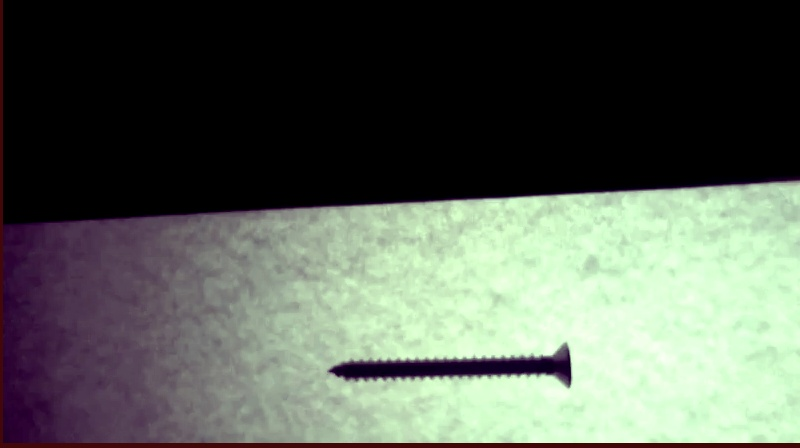S002: (323, 338, 575, 395)
